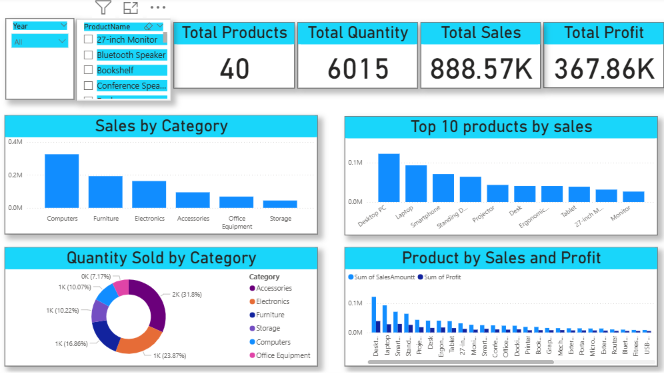

Layout of this report page (visuals, bound fields, positions):
{"tool":"powerbi","page":{"name":"Product Analysis","canvas":[1280,720],"ordinal":3},"visuals":[{"type":"card","title":"Total Products","fields":{"Values":["Count(Products.ProductName)"]},"box":[338.1,47.5,228.7,124.7],"z":0},{"type":"card","title":"Total Quantity","fields":{"Values":["Sum(Sales.Quantity)"]},"box":[572.5,47.5,226.8,124.7],"z":1000},{"type":"card","title":"Total Profit","fields":{"Values":["Sum(Sales.Profit)"]},"box":[1037.5,47.5,227.1,124.2],"z":2000},{"type":"card","title":"Total Sales","fields":{"Values":["Sum(Sales.SalesAmountt)"]},"box":[805,47.5,226.8,124.7],"z":3000},{"type":"clusteredColumnChart","title":"Sales by Category","fields":{"Category":["Products.Category"],"Y":["Sum(Sales.SalesAmountt)"]},"box":[18.9,223.6,591.5,224.9],"z":4000},{"type":"clusteredColumnChart","title":"Top 10 products by sales","fields":{"Y":["Sum(Sales.SalesAmountt)"],"Category":["Products.ProductName"]},"box":[661.4,225.5,591.5,224.9],"z":5000},{"type":"donutChart","title":"Quantity Sold by Category","fields":{"Category":["Products.Category"],"Y":["Sum(Sales.Quantity)"]},"box":[18.9,471.6,591.5,224.9],"z":6000},{"type":"clusteredColumnChart","title":"Product by Sales and Profit","fields":{"Category":["Products.ProductName"],"Y":["Sum(Sales.SalesAmountt)","Sum(Sales.Profit)"]},"box":[661.4,471.6,591.5,224.9],"z":7000},{"type":"slicer","fields":{"Values":["DimDate.Year"]},"box":[19.9,39.8,129.5,153.4],"z":8000},{"type":"slicer","fields":{"Values":["Products.ProductName"]},"box":[155.1,41.8,177.3,153.4],"z":9000}]}

Visuals, with their boxes in screenshot pixels (x1, y1, x2, y2), scaled from the page's 1280x720 canvas onto the 664x373 screenshot:
"Total Products" card: [left=175, top=25, right=294, bottom=89]
"Total Quantity" card: [left=297, top=25, right=415, bottom=89]
"Total Profit" card: [left=538, top=25, right=656, bottom=89]
"Total Sales" card: [left=418, top=25, right=535, bottom=89]
"Sales by Category" clusteredColumnChart: [left=10, top=116, right=317, bottom=232]
"Top 10 products by sales" clusteredColumnChart: [left=343, top=117, right=650, bottom=233]
"Quantity Sold by Category" donutChart: [left=10, top=244, right=317, bottom=361]
"Product by Sales and Profit" clusteredColumnChart: [left=343, top=244, right=650, bottom=361]
slicer - DimDate.Year: [left=10, top=21, right=78, bottom=100]
slicer - Products.ProductName: [left=80, top=22, right=172, bottom=101]
